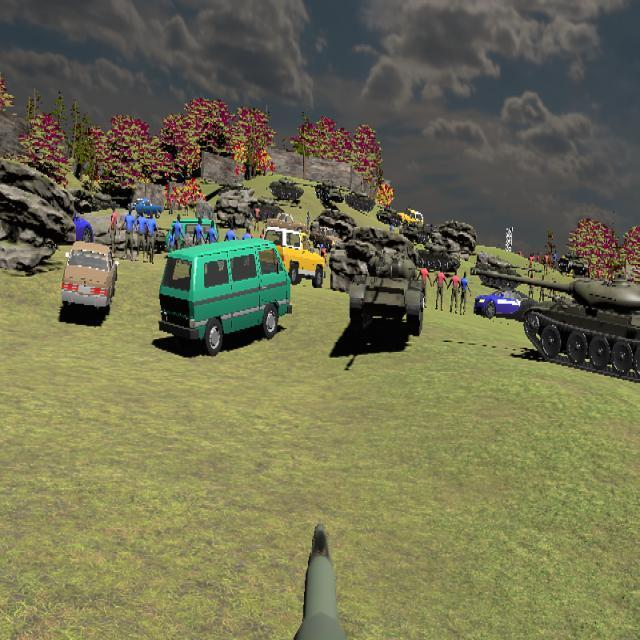Human: (121, 205, 137, 262), (135, 209, 150, 264), (432, 261, 448, 311), (145, 212, 159, 264), (109, 204, 118, 258)
Tank: (479, 273, 640, 382), (350, 248, 426, 340), (474, 252, 539, 290), (410, 241, 467, 272), (266, 176, 314, 201), (314, 179, 347, 204), (346, 188, 376, 212)
car: (159, 237, 292, 355), (249, 225, 327, 289), (61, 245, 118, 315), (473, 288, 541, 323), (127, 197, 164, 218), (398, 208, 424, 229)
